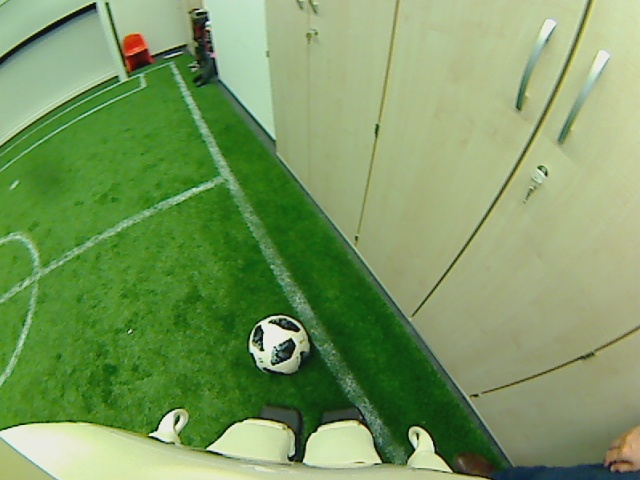ball: (246, 309, 310, 375)
